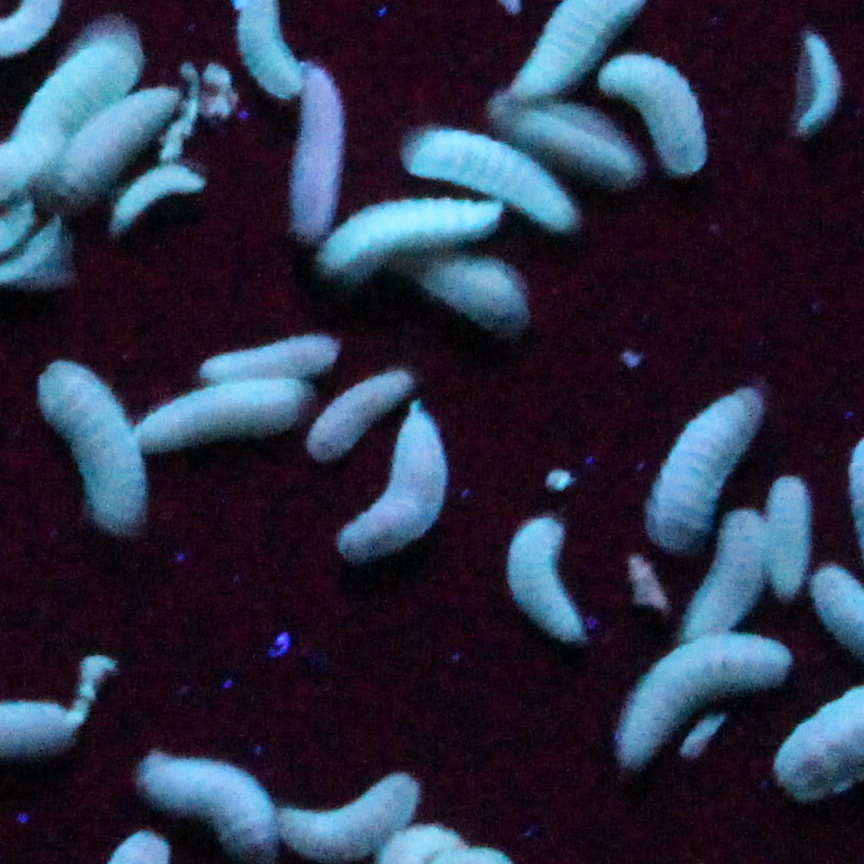larve: (611, 636, 798, 772), (30, 353, 143, 546), (405, 120, 579, 234), (45, 82, 190, 202), (327, 197, 505, 285), (663, 380, 756, 546), (336, 426, 443, 566), (287, 760, 423, 863), (678, 497, 762, 649), (616, 60, 723, 173), (136, 760, 270, 846), (156, 386, 303, 453), (303, 60, 350, 266), (503, 526, 576, 653), (311, 375, 414, 462), (198, 326, 343, 381), (423, 260, 530, 320), (799, 22, 845, 145), (766, 481, 801, 610), (116, 182, 199, 234)
